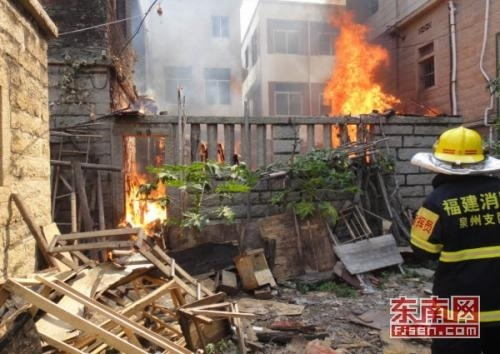fire: (324, 10, 401, 117), (122, 135, 168, 229), (332, 119, 373, 157)
